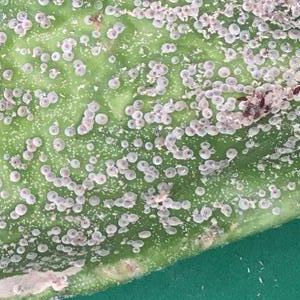Femea: (114, 22, 124, 31), (152, 156, 161, 165), (16, 205, 25, 213), (25, 194, 33, 203), (108, 30, 117, 38), (96, 114, 104, 122), (74, 66, 82, 74), (25, 63, 33, 71), (10, 172, 18, 180), (132, 112, 140, 120), (75, 185, 83, 193), (127, 69, 135, 77), (62, 177, 71, 184), (220, 68, 227, 77), (64, 51, 72, 58), (54, 142, 62, 149), (139, 161, 146, 169), (200, 149, 207, 157), (128, 154, 136, 161), (248, 65, 256, 72), (60, 168, 68, 175), (67, 182, 75, 189), (45, 173, 53, 180), (163, 43, 169, 52), (9, 212, 19, 217), (199, 142, 209, 147), (51, 53, 58, 60), (21, 188, 28, 195), (89, 157, 96, 164), (159, 79, 166, 86), (97, 175, 104, 182), (127, 119, 134, 126), (135, 119, 142, 126), (204, 110, 211, 117), (253, 71, 260, 78), (261, 67, 268, 74), (271, 189, 278, 196), (199, 118, 207, 124), (191, 120, 197, 128), (41, 167, 49, 173), (72, 61, 79, 67), (39, 54, 46, 60), (54, 179, 61, 185)
Linfa: (107, 147, 117, 156), (70, 149, 80, 158), (85, 208, 97, 215), (95, 213, 105, 221), (110, 183, 120, 191), (25, 216, 34, 224), (36, 221, 45, 229), (62, 154, 69, 164), (94, 137, 102, 145), (96, 126, 105, 133), (44, 139, 51, 148), (47, 150, 53, 160), (33, 209, 41, 216), (101, 186, 109, 193), (23, 171, 30, 179), (32, 169, 39, 177), (36, 185, 45, 191), (95, 151, 104, 157), (30, 179, 37, 186), (42, 112, 49, 119), (67, 104, 74, 111), (59, 116, 68, 121), (38, 216, 45, 222), (36, 191, 43, 197), (21, 179, 28, 185), (31, 119, 37, 126), (55, 103, 61, 110), (37, 123, 42, 131), (51, 165, 56, 172), (49, 156, 54, 163), (51, 112, 58, 117), (29, 126, 34, 132)
Macho: (162, 125, 174, 132), (60, 91, 68, 96)
